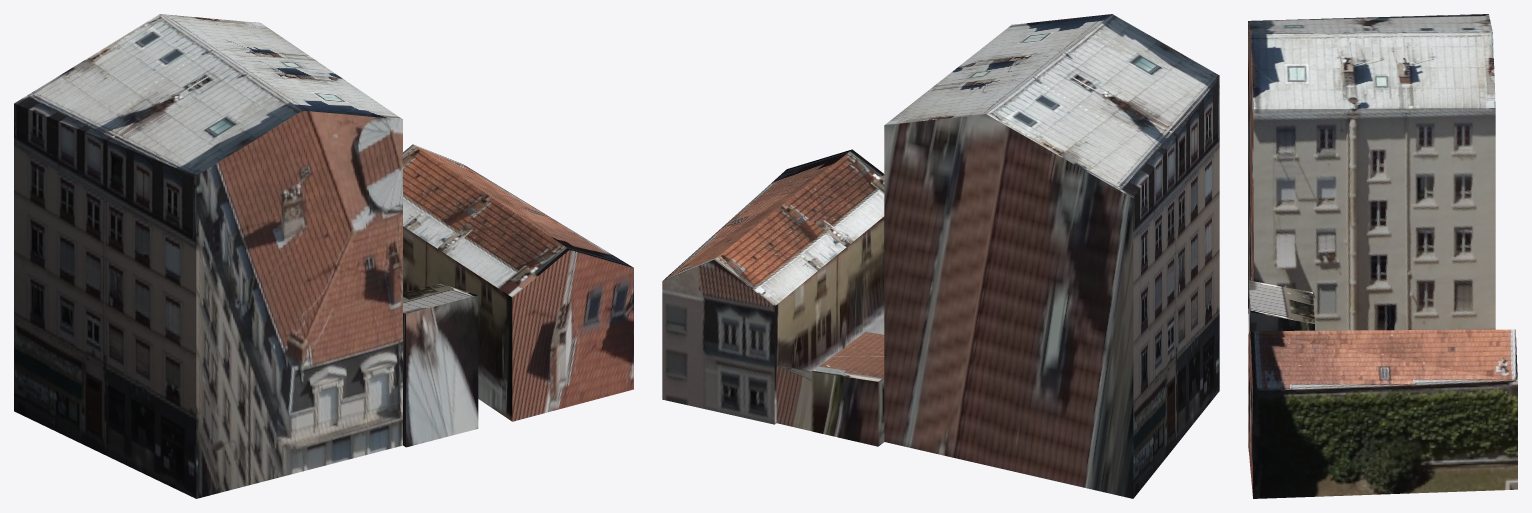
3 renders of one model, left to right at view 1: azimuth 30°, elevation 25°; view 2: azimuth 150°, elevation 25°; view 3: azimuth 270°, elevation 25°, orthographic. The views are drawn at different scales.
Visible parts, largest first — view 1: Z_UP; view 2: Z_UP; view 3: Z_UP.
Part boxes in pixels (x1=…): Z_UP: x1=14, y1=14, x2=633, y2=498; Z_UP: x1=662, y1=14, x2=1219, y2=498; Z_UP: x1=1248, y1=14, x2=1517, y2=498.
Size of the model in its own units: 31.26 by 22.11 by 16.86.
2 materials, 1 textured.
